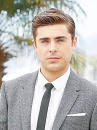male: (30, 10, 83, 78)
